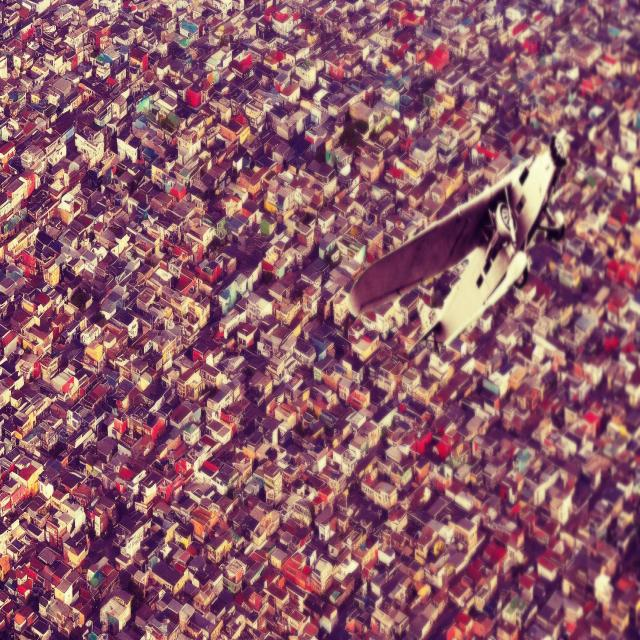airplane: (347, 126, 571, 356)
